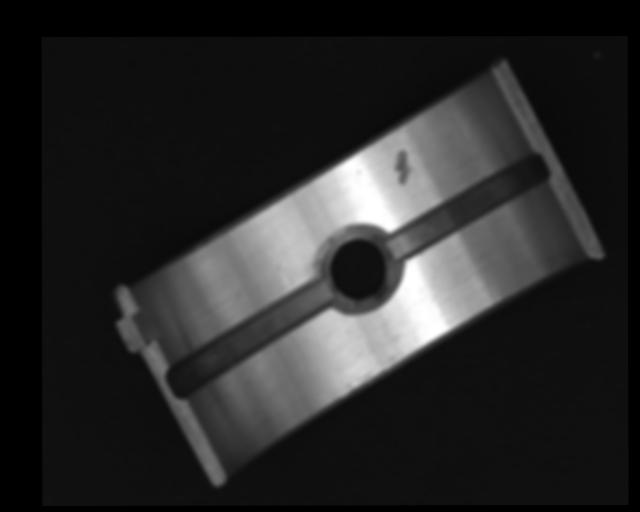bruise: (393, 148, 415, 186)
gap: (168, 278, 329, 400), (386, 151, 549, 258)
hole: (322, 225, 392, 308)
nick: (267, 240, 291, 290)
